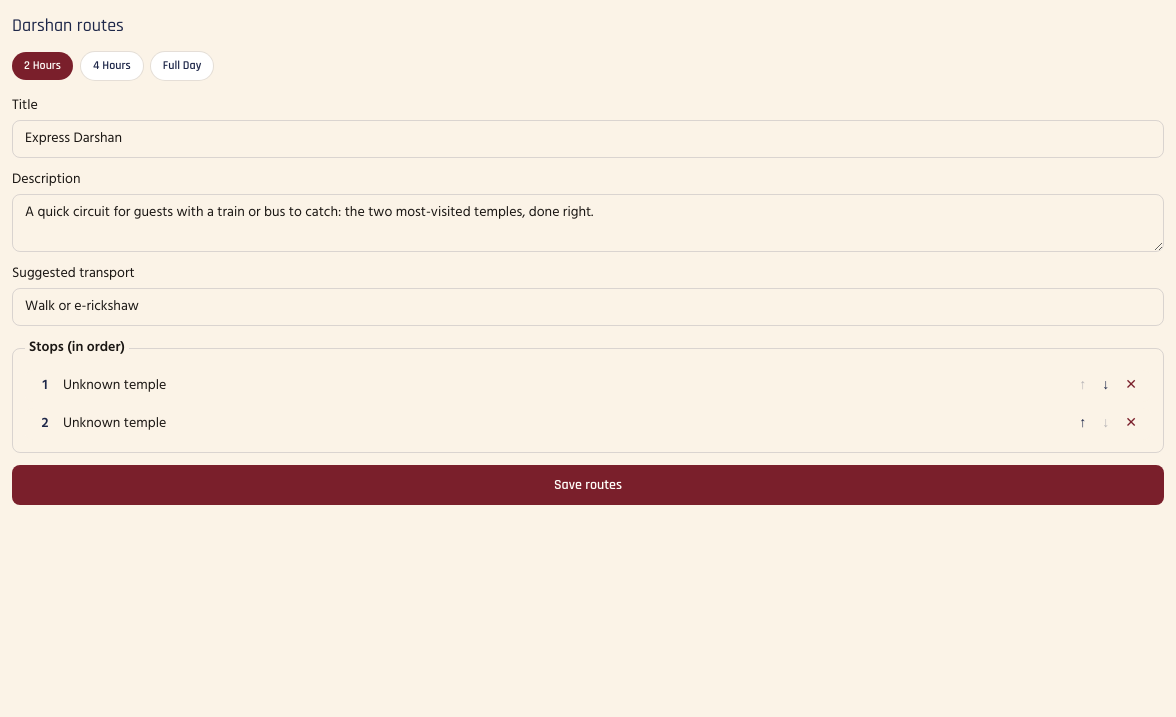
RoutesEditor › switches tabs to show the full-day route
The image size is (1176, 717).
Expected: the field showing "Express Darshan" is shown, [12,120,1164,158]
Click the button "Full Day" at x=182, y=66, box [151,52,213,80]
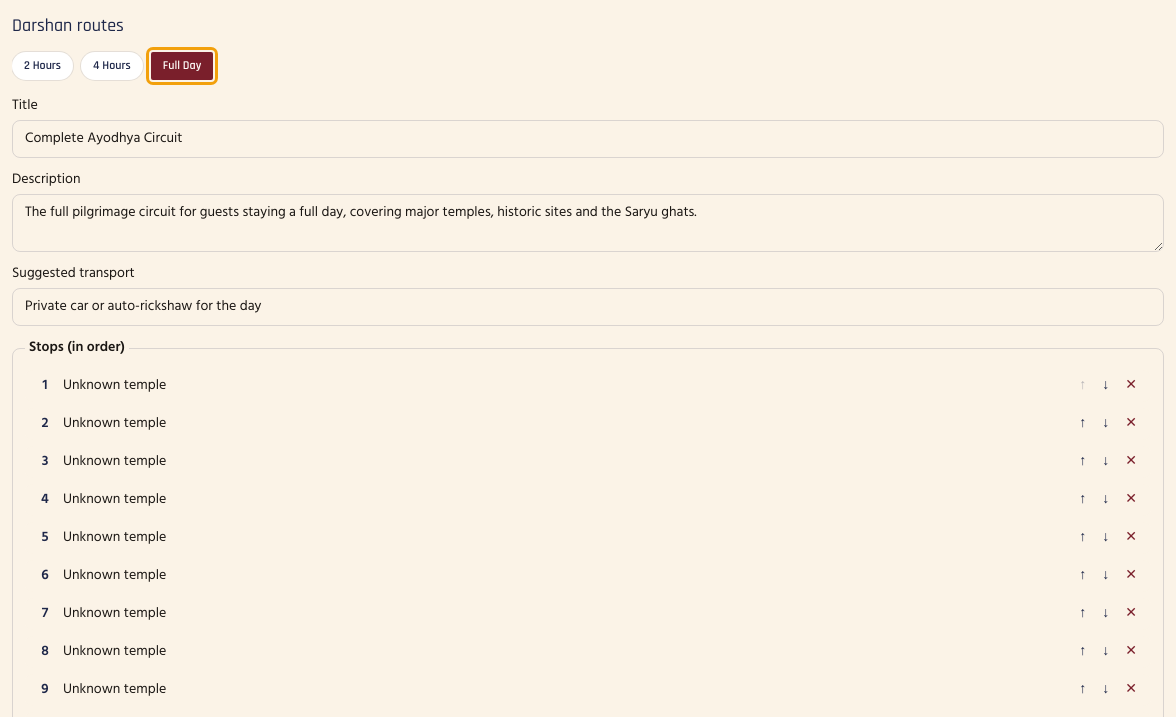
Expected: the field showing "Complete Ayodhya Circuit" is shown, [12,120,1164,158]
